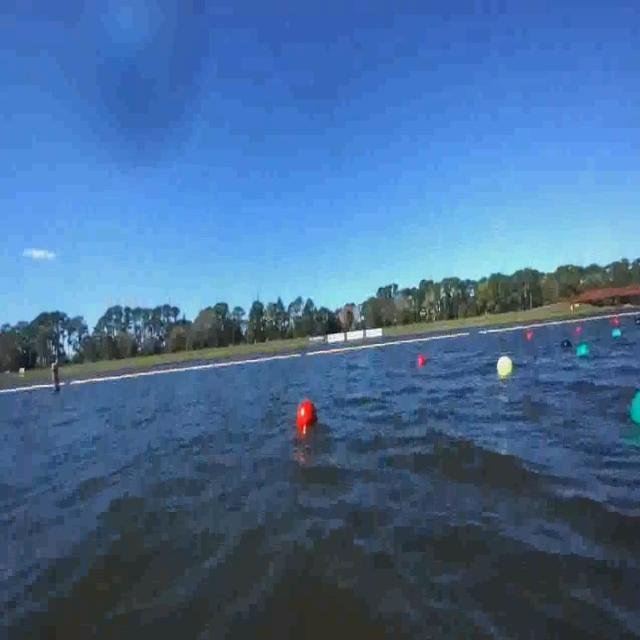red-buoy: (296, 401, 316, 430)
yellow-buoy: (497, 356, 513, 377)
